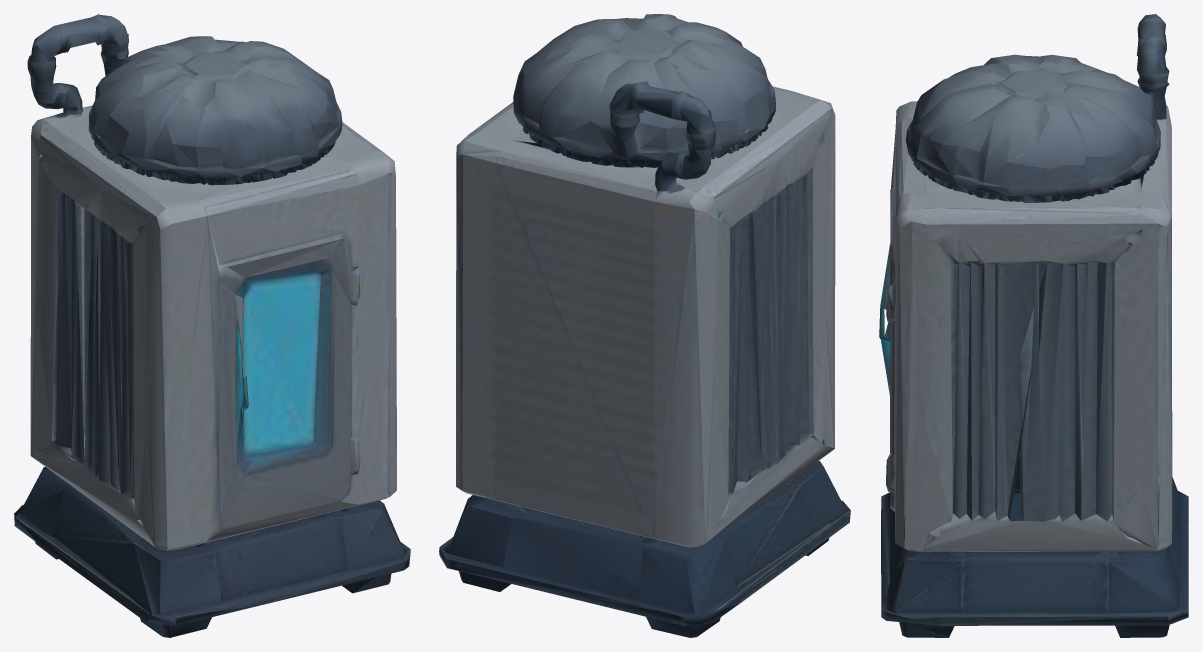
Rendered from deco_generateur.glb.
3 views of the same model, side by side, from view 1: azimuth 30°, elevation 25°; view 2: azimuth 150°, elevation 25°; view 3: azimuth 270°, elevation 25° (orthographic). The views are drawn at different scales.
Parts seen in each view (by area): view 1: mesh_node; view 2: mesh_node; view 3: mesh_node.
Boxes of the visible parts, left/top/right/bottom form: mesh_node: left=14, top=14, right=410, bottom=637; mesh_node: left=439, top=14, right=850, bottom=637; mesh_node: left=879, top=14, right=1188, bottom=637.
Size of the model in its own units: 1.01 by 1.9 by 1.02.
Materials: 1 (1 with a texture image).
